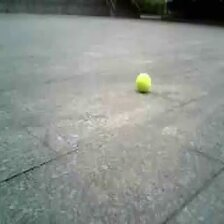tennis: (137, 73, 151, 90)
